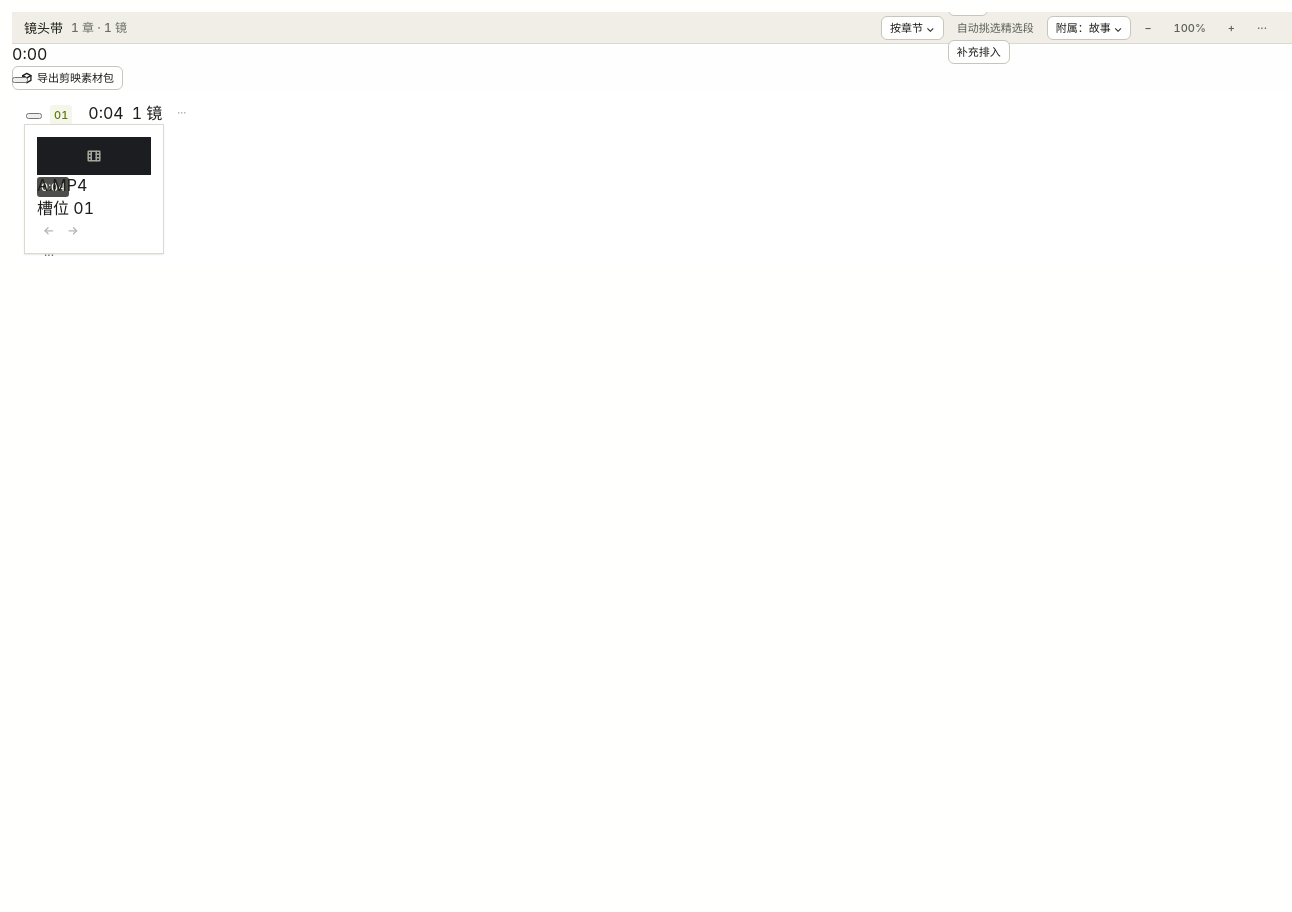
Test: R11 §1.2:镜头带工具条「自动挑选精选段」 › X-02:分析已完成时不再劝「等分析跑完」;后端已给下一步(rating failed: 前缀剥掉)就不再追加兜底话
This screenshot has width=1292, height=912.
expect the cell named "镜头 1：A.MP4" is shown: met, box left=24, top=124, right=164, bottom=254
Click the button "自动挑选精选段". click: (995, 28)
box: left=948, top=16, right=1043, bottom=40
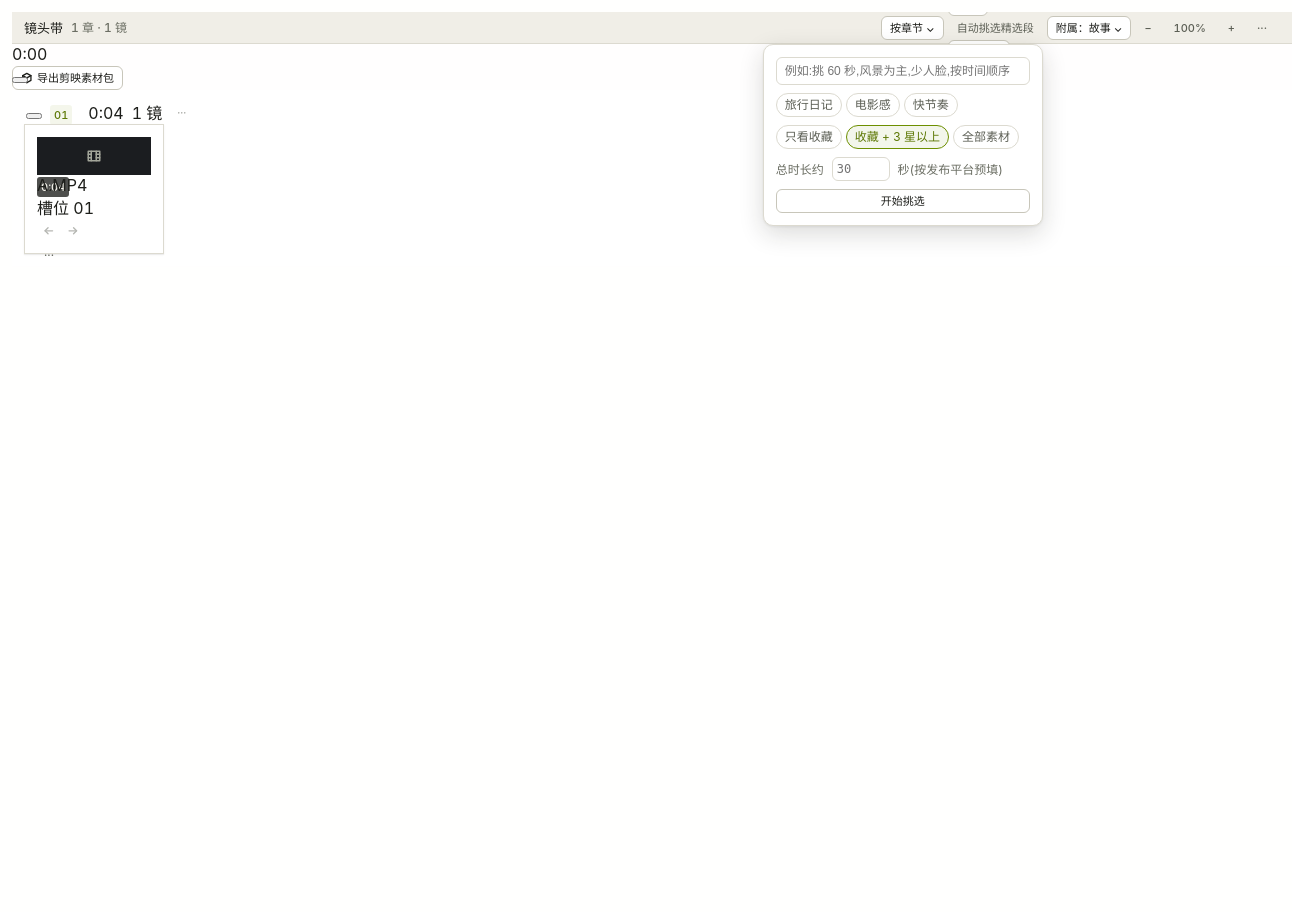
Click the button "开始挑选". click: (903, 200)
box: left=776, top=188, right=1030, bottom=212
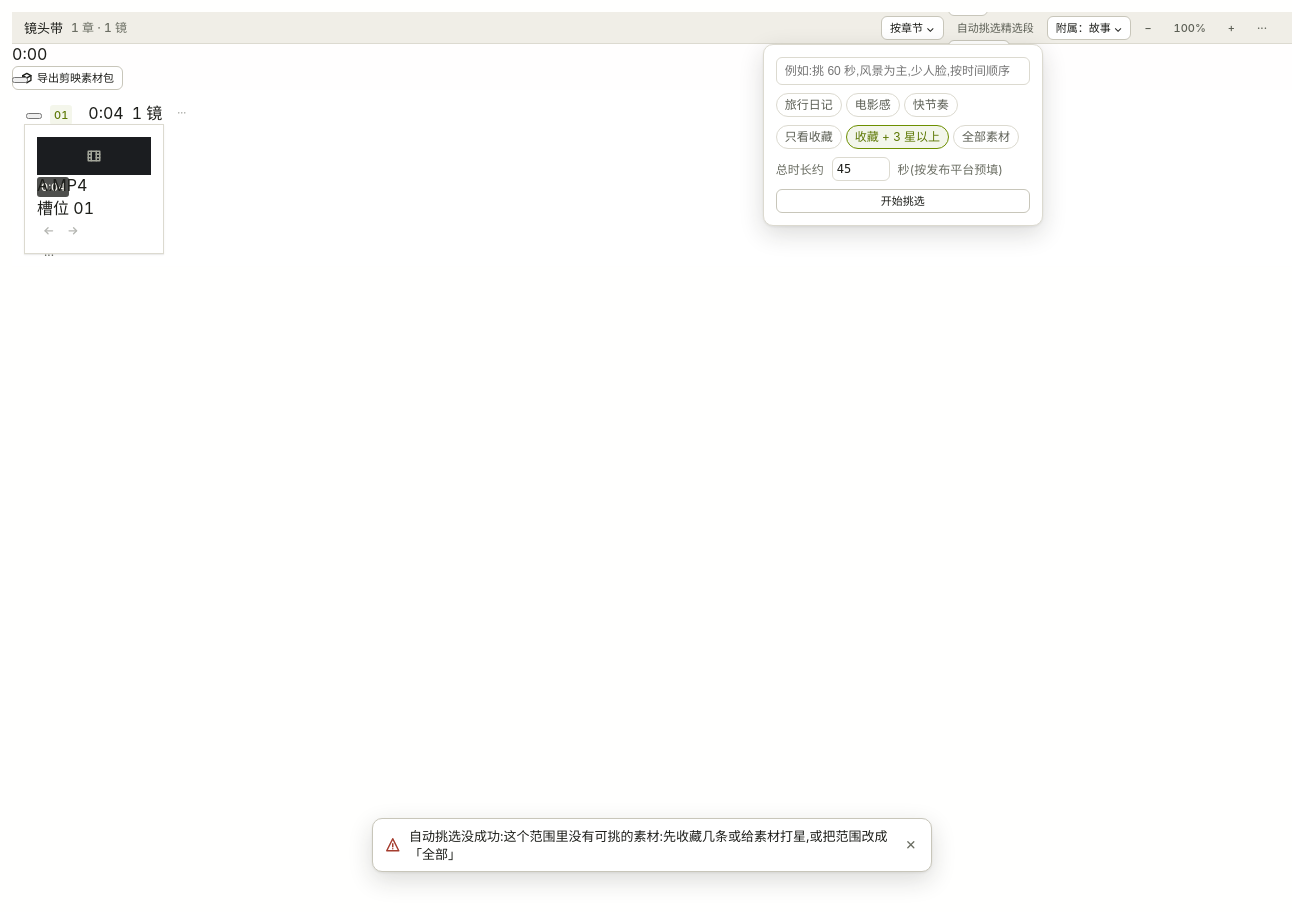
expect the message reads "自动挑选没成功:这个范围里没有可挑的素材:先收藏几条或给素材打星,或把范围改成「全部」": met, box left=409, top=828, right=888, bottom=862
